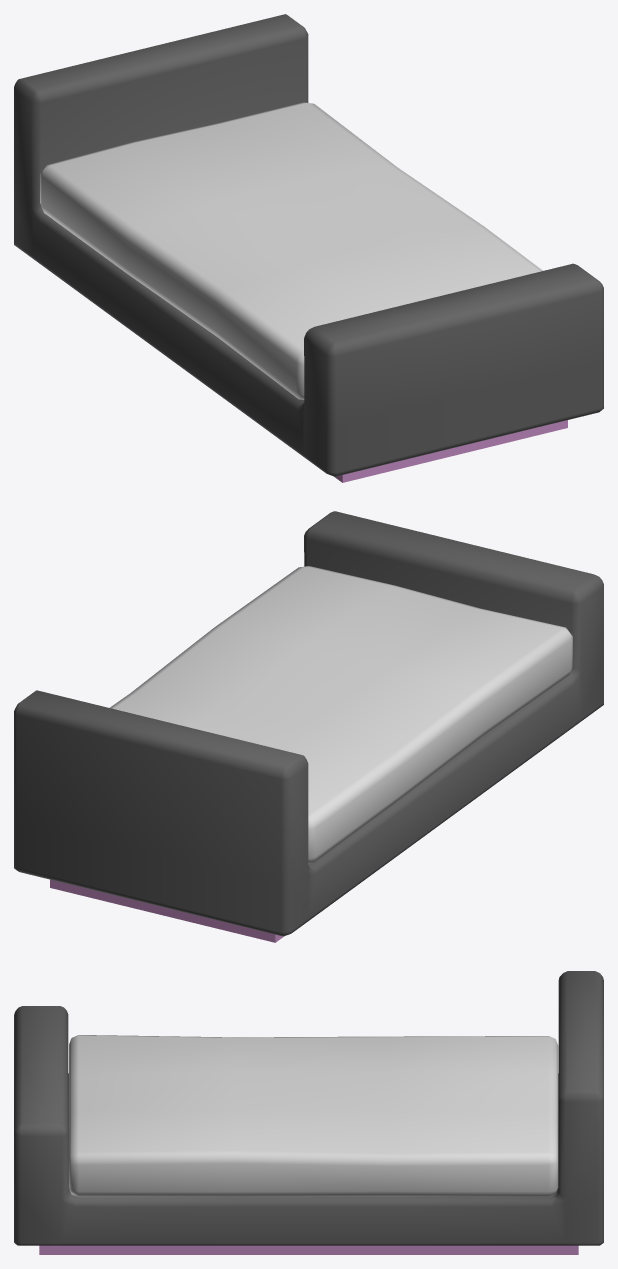
The model's file is MZCBD02X.FBX.
3 renders of one model, top to bottom at view 1: azimuth 30°, elevation 25°; view 2: azimuth 150°, elevation 25°; view 3: azimuth 270°, elevation 25°, orthographic. The views are drawn at different scales.
Visible parts, largest first — view 1: MZCBD02X; view 2: MZCBD02X; view 3: MZCBD02X.
Part boxes in pixels (left/top/right/bottom): MZCBD02X: left=14, top=14, right=603, bottom=482; MZCBD02X: left=14, top=511, right=603, bottom=942; MZCBD02X: left=14, top=971, right=603, bottom=1254.
Bounding box in the file's own units: 120 × 240 × 78.
